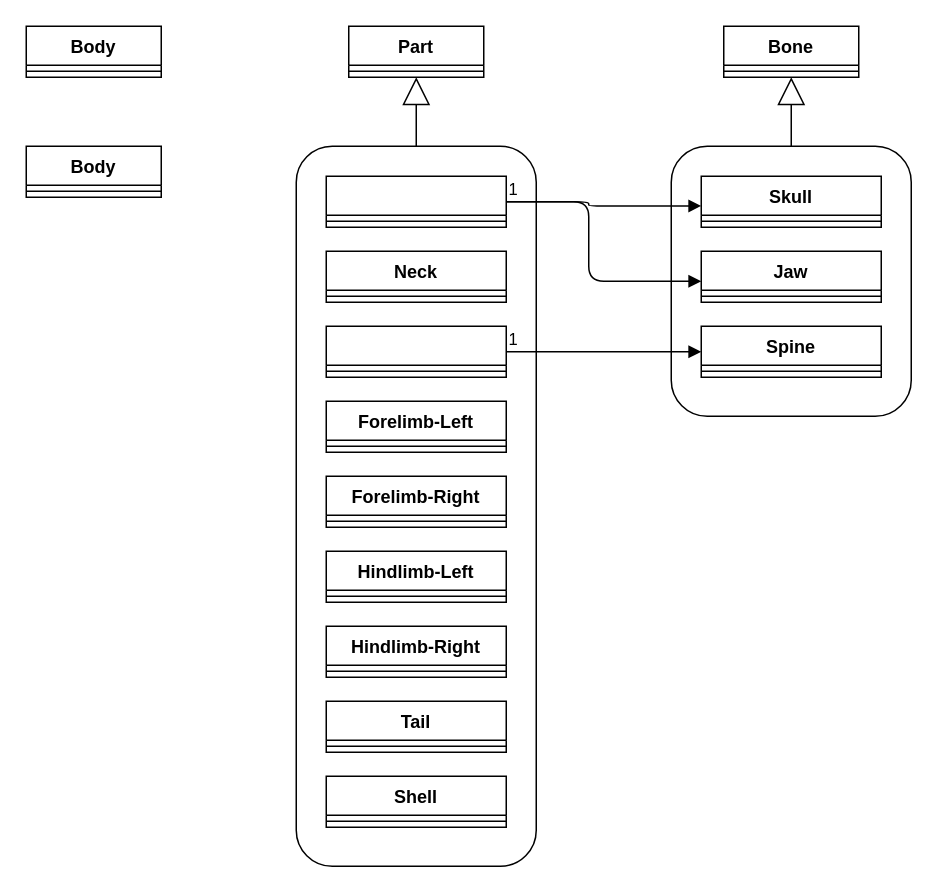
Image size: 938x893. Some labels were removed from this diagram. Each missing label, with the centre of its shape:
"Head" belongs at [415,201].
"Torso" belongs at [415,351].
